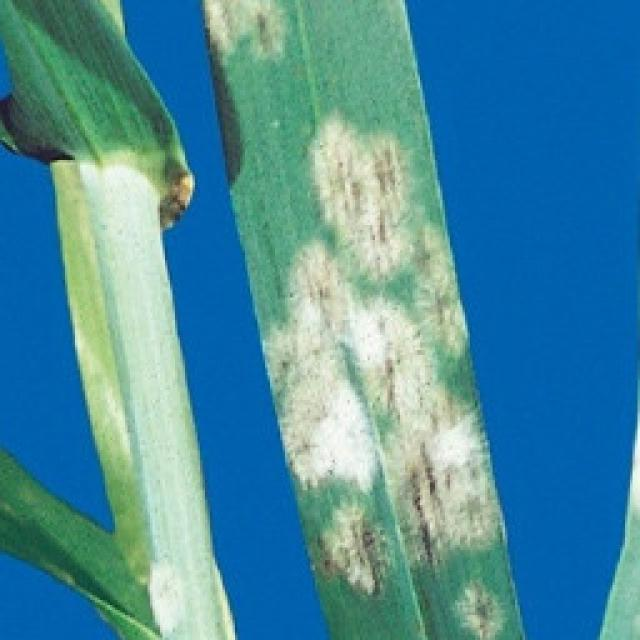Powdery_Mildew: (205, 0, 524, 638), (0, 0, 234, 639)
